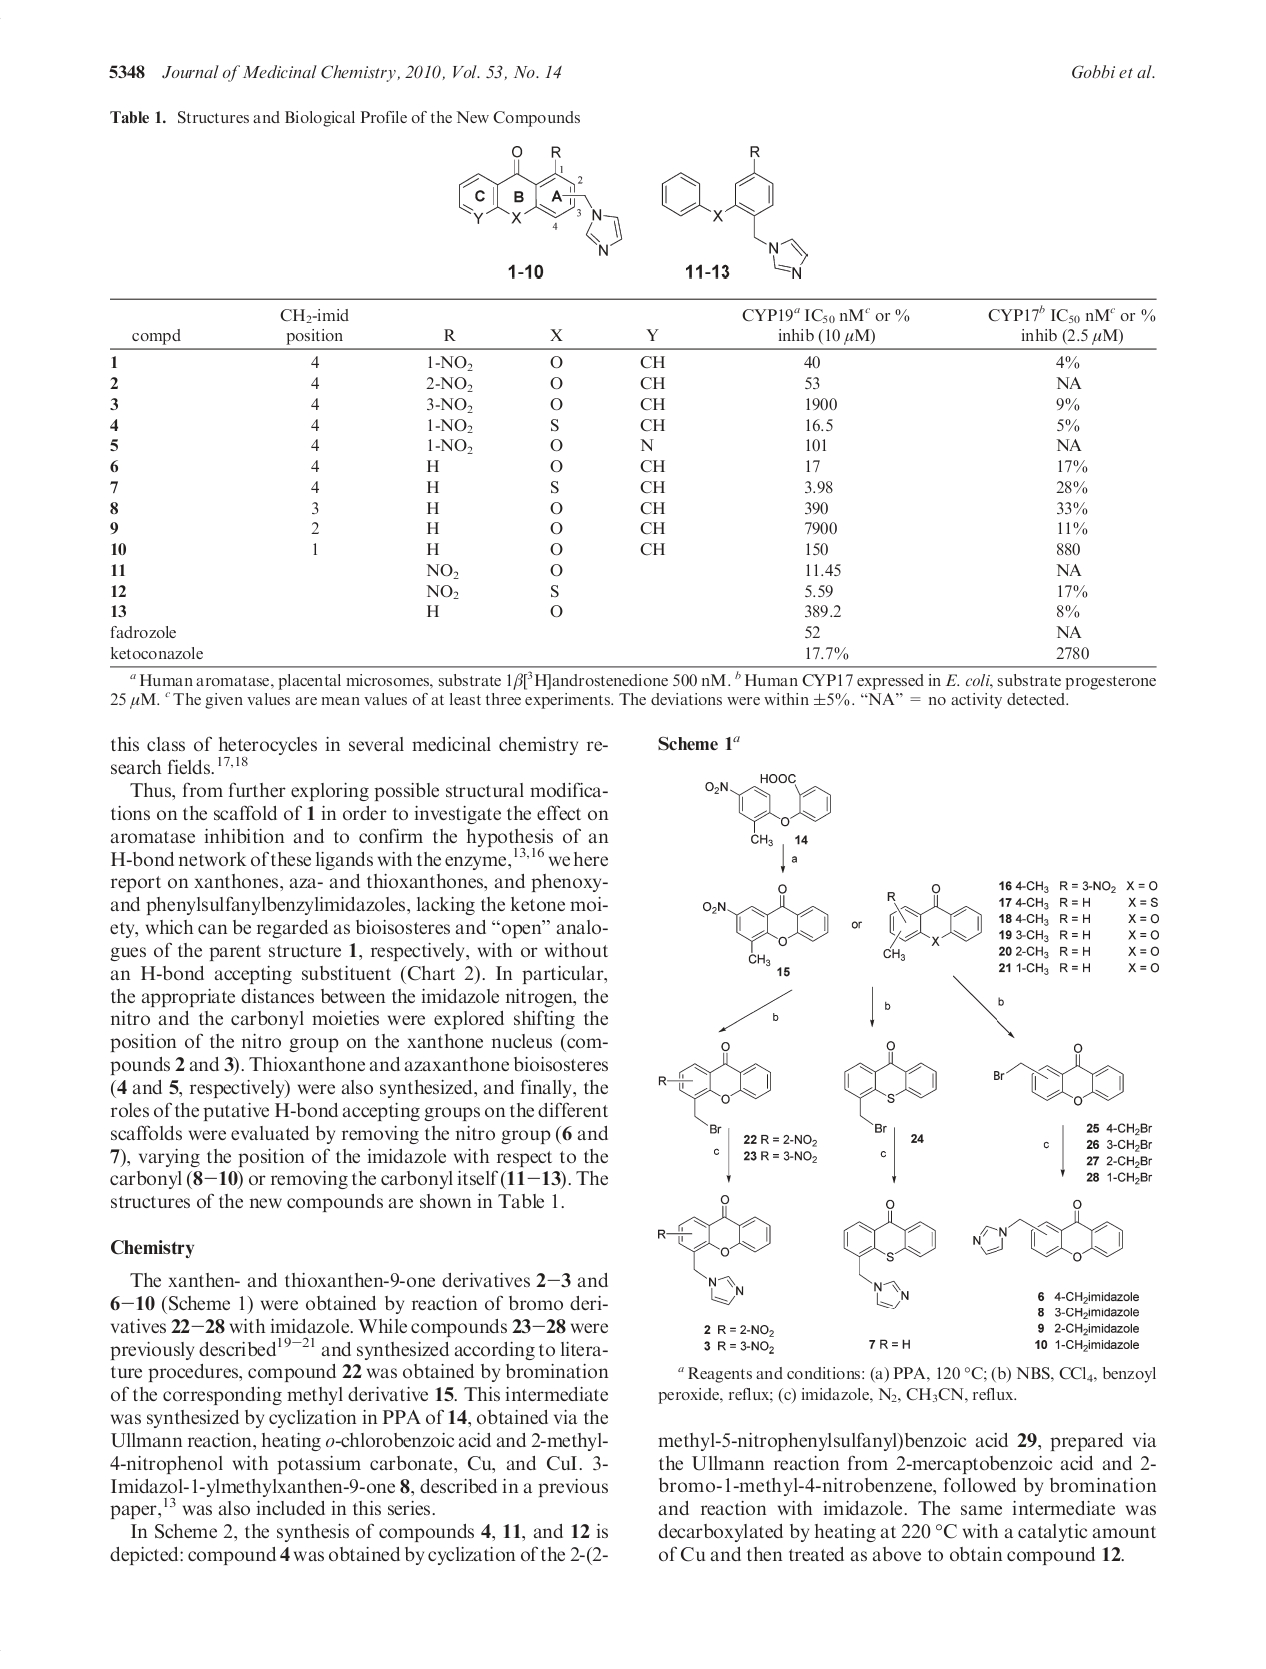exist_molecular: (660, 138, 810, 282), (456, 141, 626, 259), (656, 1194, 775, 1306), (656, 1039, 775, 1134), (699, 882, 832, 965), (842, 1198, 938, 1310), (703, 769, 834, 848), (969, 1198, 1125, 1261), (842, 1040, 940, 1137), (989, 1041, 1126, 1109), (876, 879, 985, 962)
